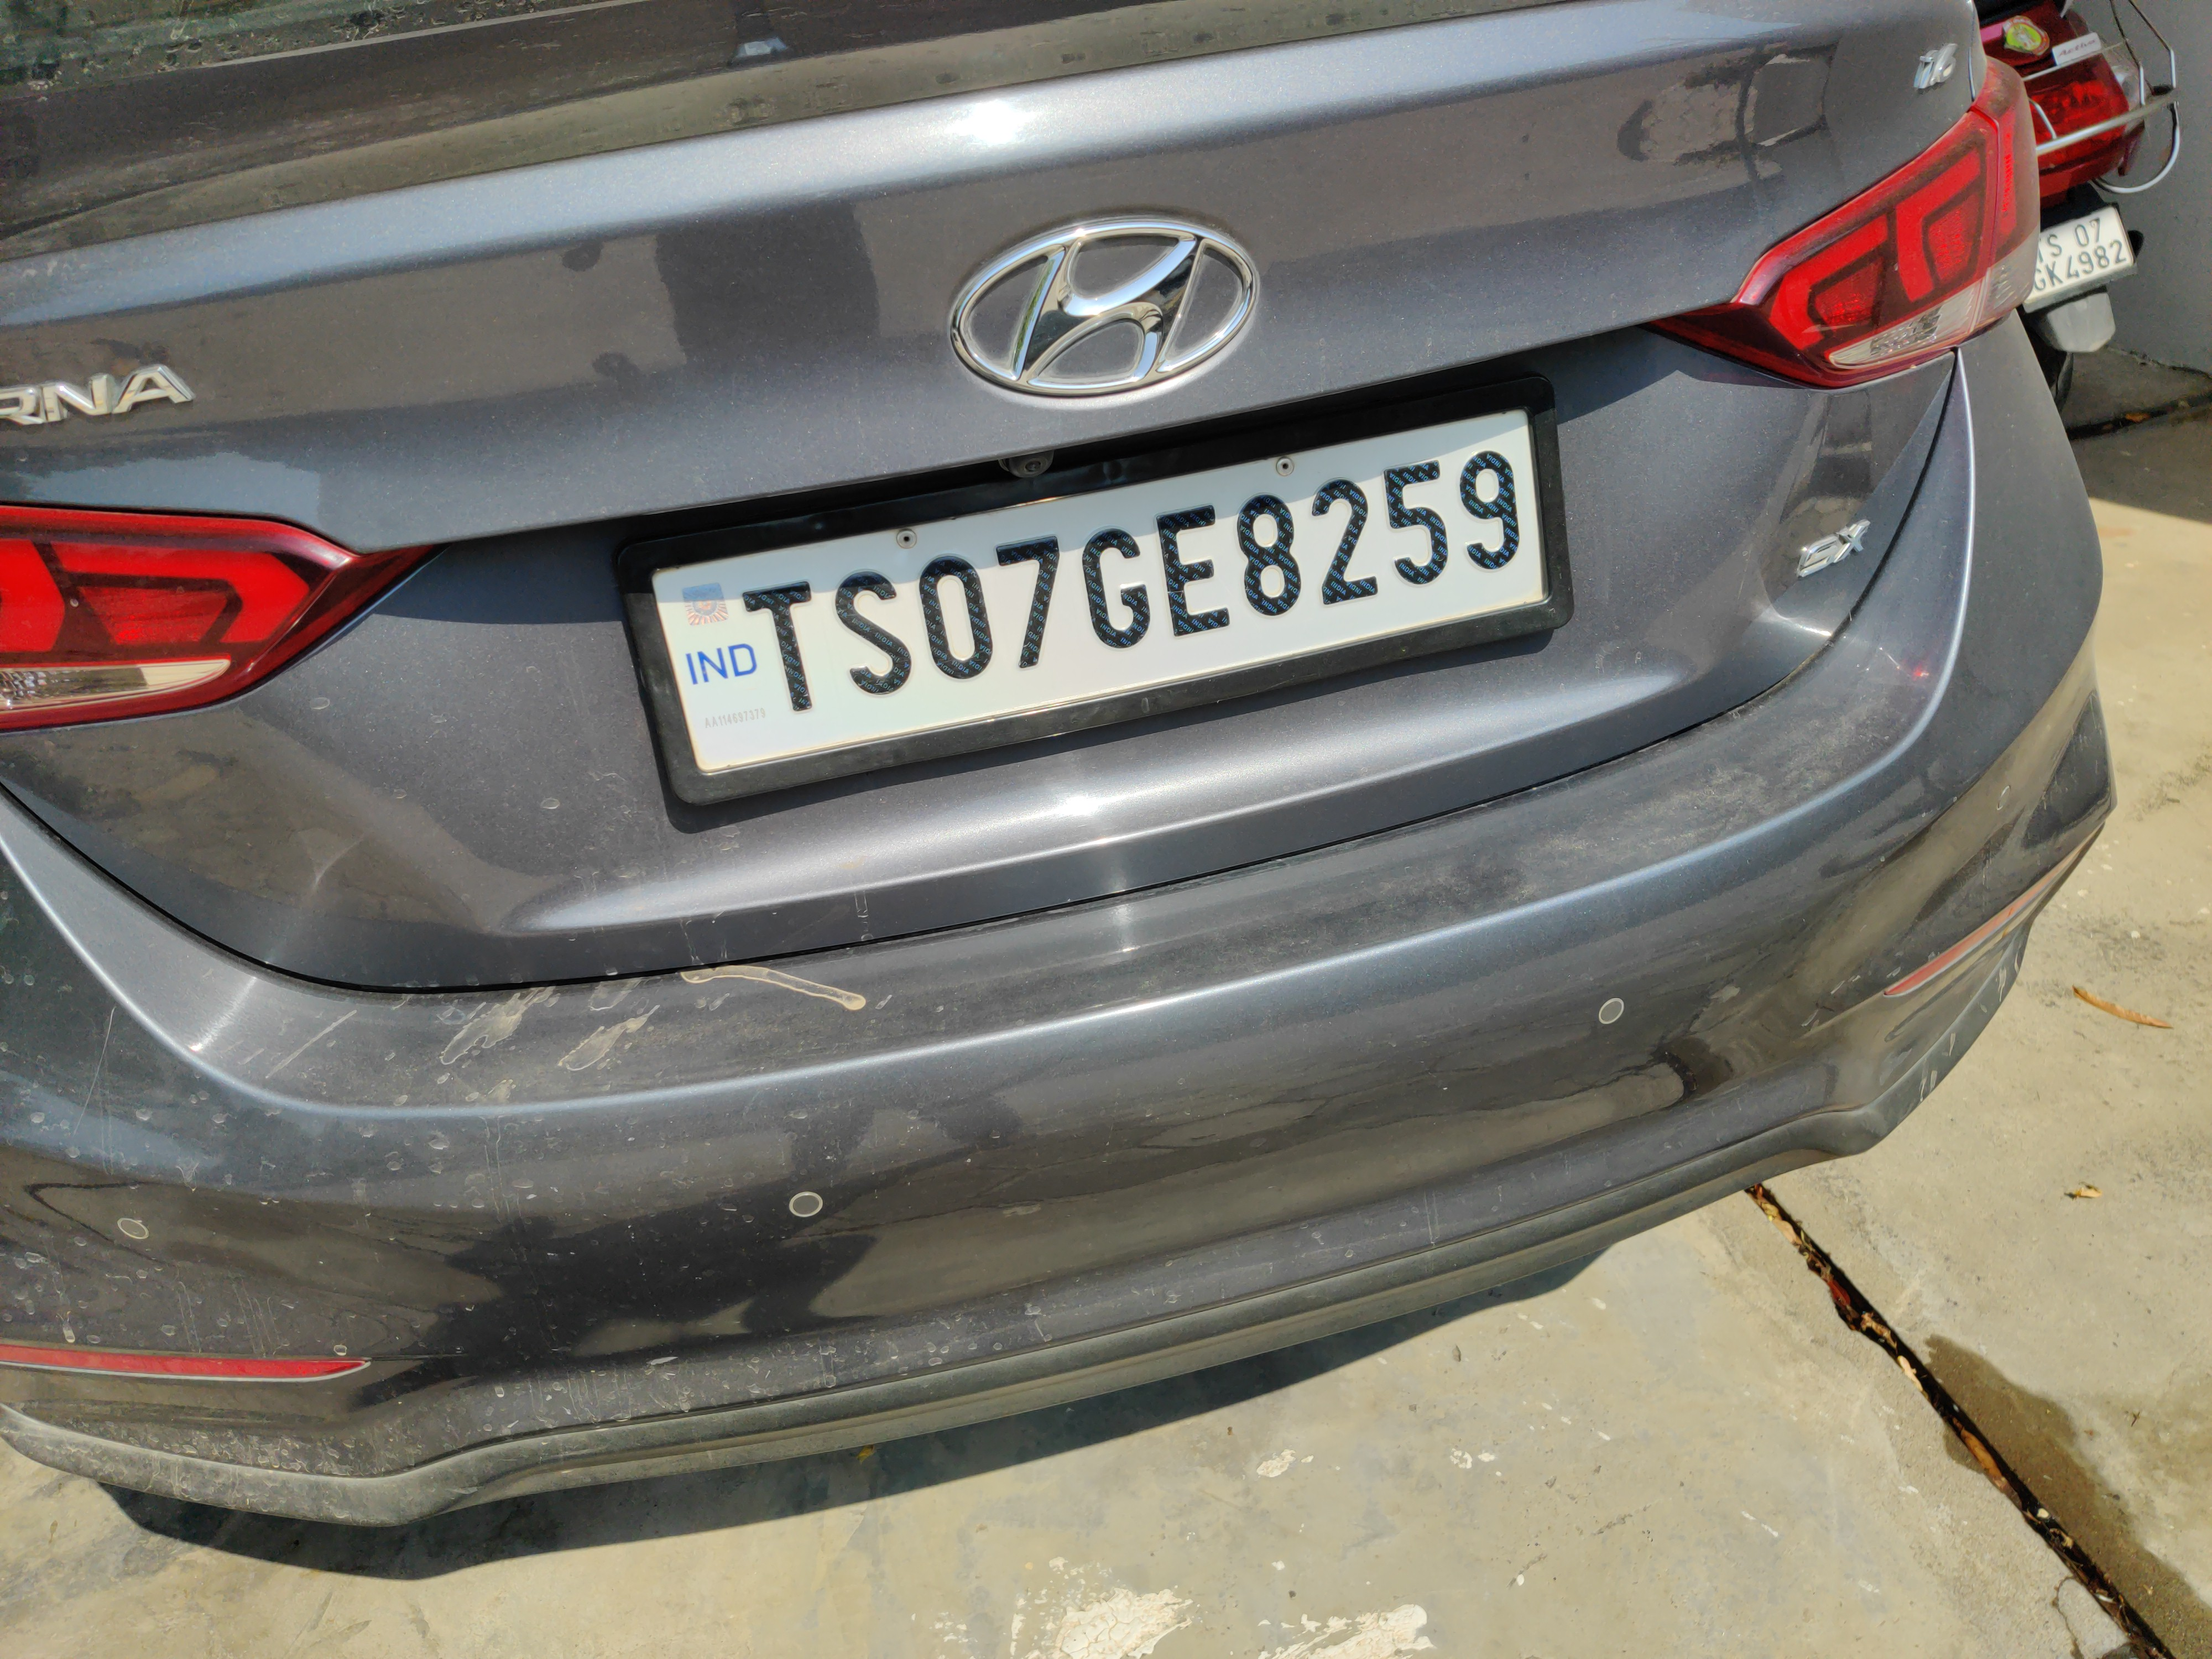plate: (553, 357, 1719, 854)
